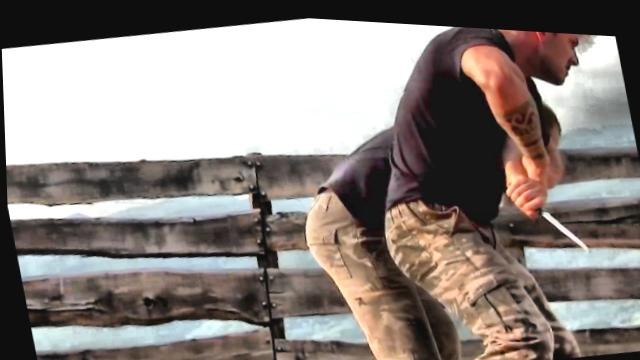knife: (503, 162, 594, 262)
